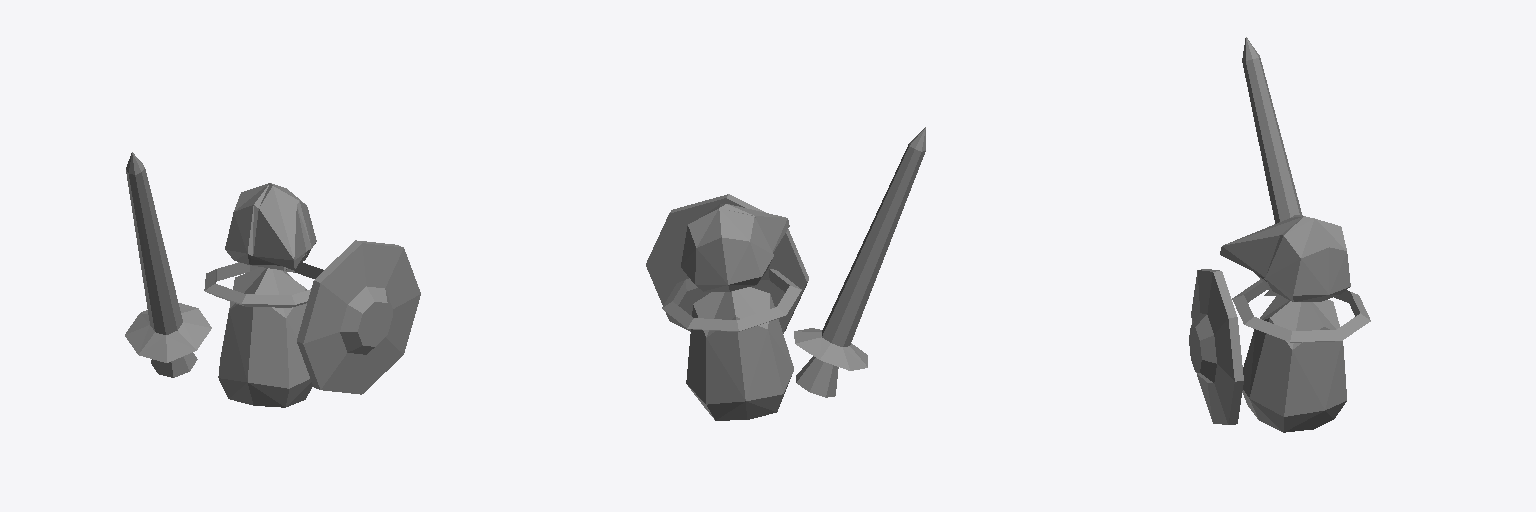
3 renders of one model, left to right at view 1: azimuth 30°, elevation 25°; view 2: azimuth 150°, elevation 25°; view 3: azimuth 270°, elevation 25°, orthographic.
Visible parts, largest first — view 1: meshMinion; view 2: meshMinion; view 3: meshMinion.
Boxes of the visible parts, x1=… form: meshMinion: x1=125, y1=152, x2=420, y2=407; meshMinion: x1=646, y1=127, x2=925, y2=420; meshMinion: x1=1189, y1=37, x2=1370, y2=432.
Size of the model in its own units: 149 by 151 by 82.39.